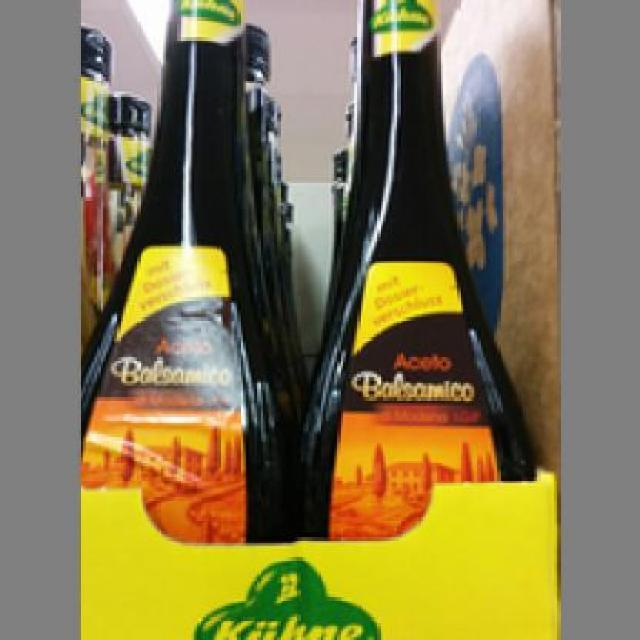Vinegar: (300, 0, 549, 535), (88, 0, 281, 537)
